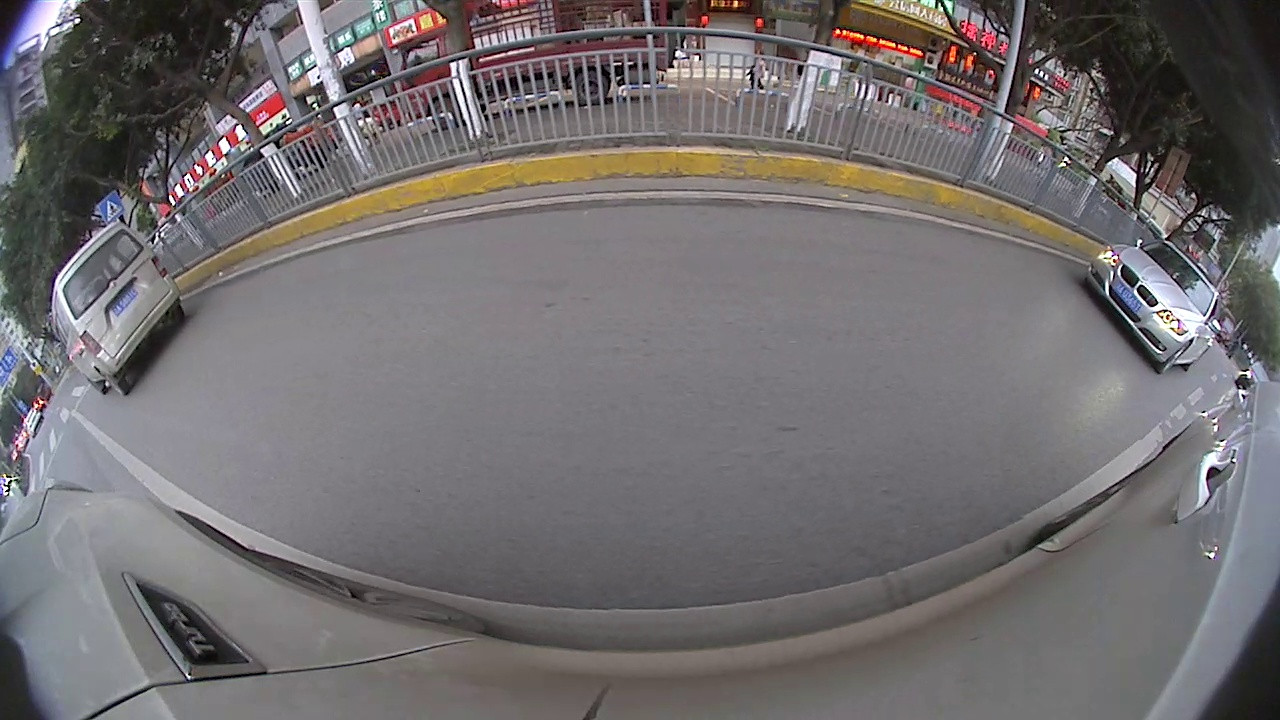car: (47, 215, 193, 403), (1078, 231, 1232, 378)
rear: (570, 71, 619, 106)
truck: (399, 20, 679, 122)
